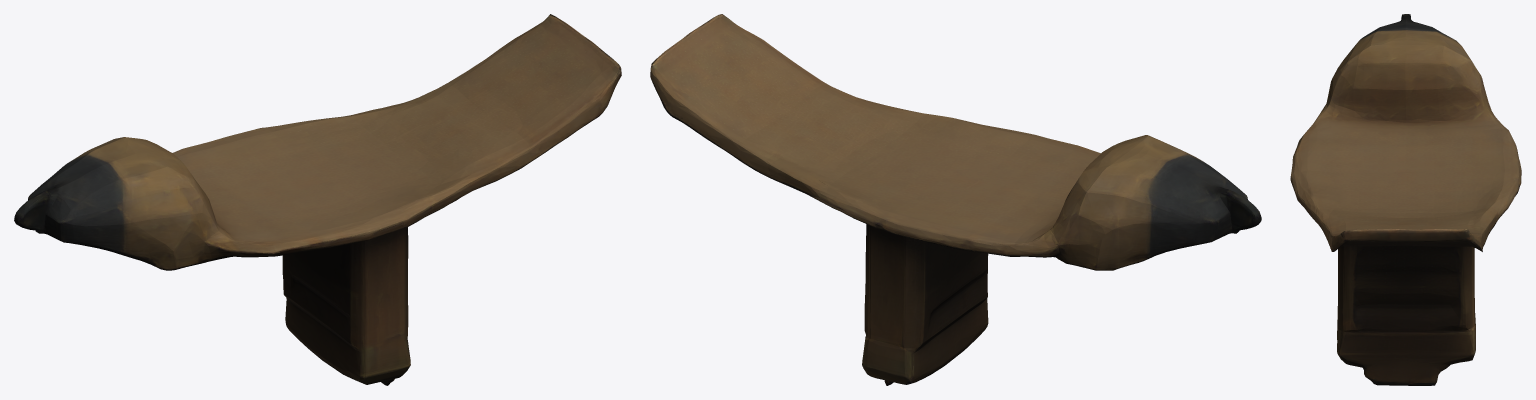
File: pred.glb
3 views of the same model, side by side, from view 1: azimuth 30°, elevation 25°; view 2: azimuth 150°, elevation 25°; view 3: azimuth 270°, elevation 25° (orthographic). The views are drawn at different scales.
Visible parts, largest first — view 1: world; view 2: world; view 3: world.
Part boxes in pixels (bbox=[...]): world: bbox=[14, 14, 621, 385]; world: bbox=[650, 14, 1261, 385]; world: bbox=[1290, 14, 1521, 385].
Size of the model in its own units: 0.9933 by 0.4696 by 0.3927.
1 material, 1 textured.
